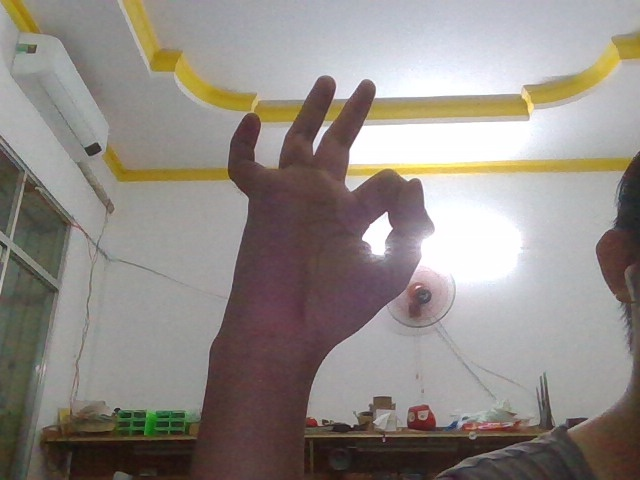okay: (175, 55, 457, 379)
